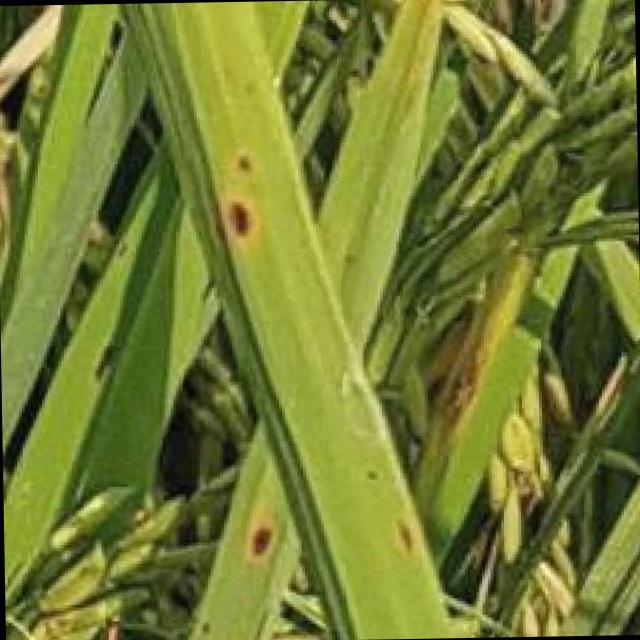Rice_Brownspot: (204, 193, 262, 239), (240, 508, 282, 564), (392, 512, 430, 559), (220, 141, 251, 168)
